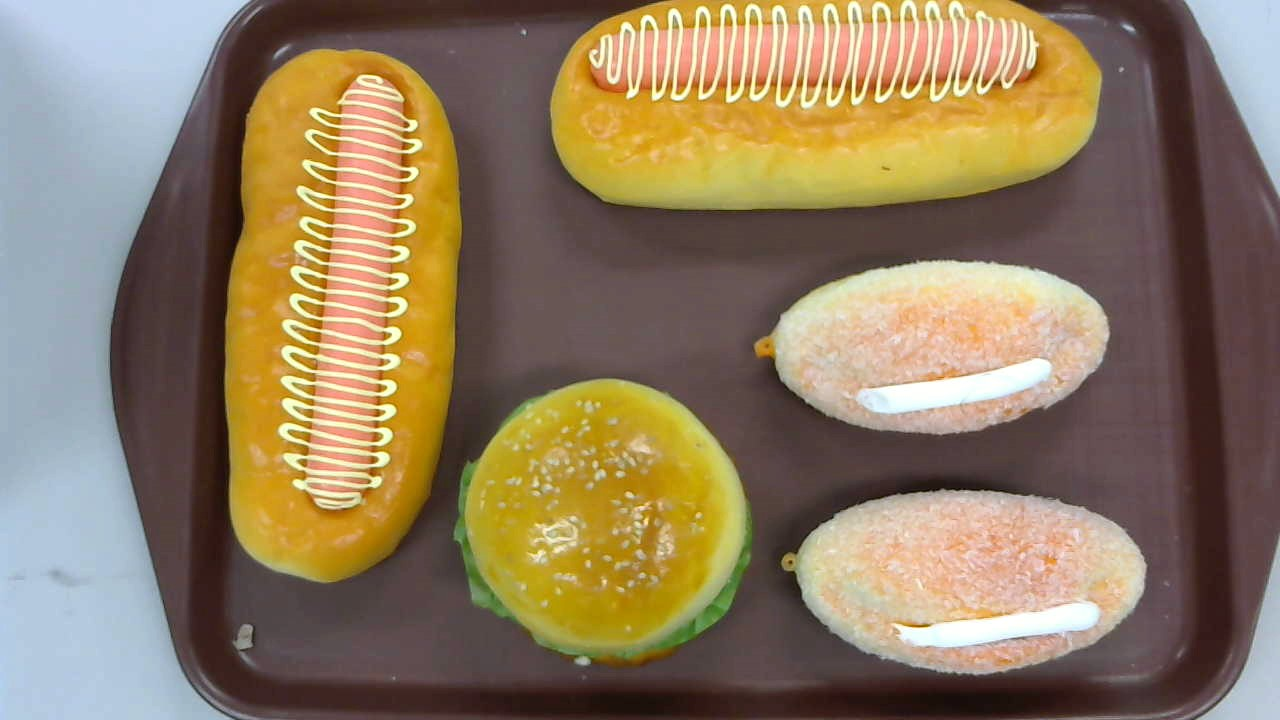coconut: (779, 488, 1148, 676), (753, 259, 1110, 434)
hamburger: (454, 378, 753, 669)
hot dog: (224, 49, 461, 583), (549, 1, 1103, 212)
